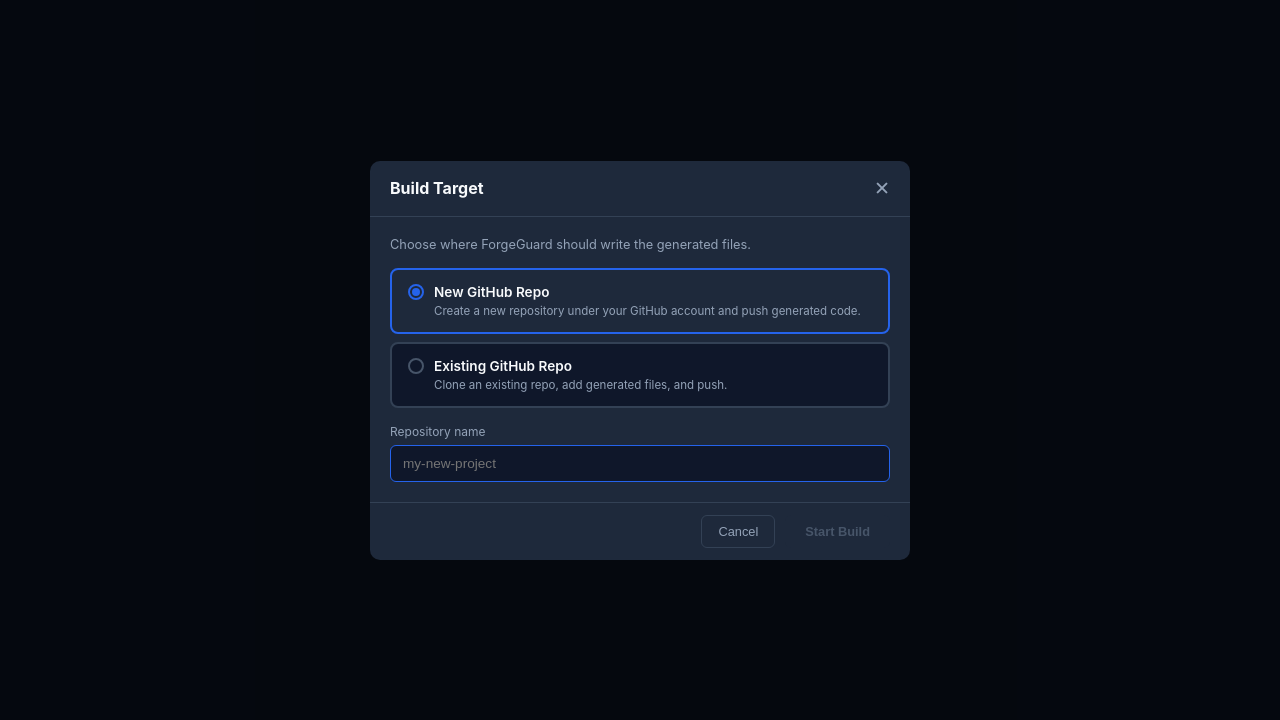
Test: BuildTargetModal › enables Start Build when input has value
In the field with test id "target-ref-input": (640, 463) [390, 444, 890, 482], type "my-repo"
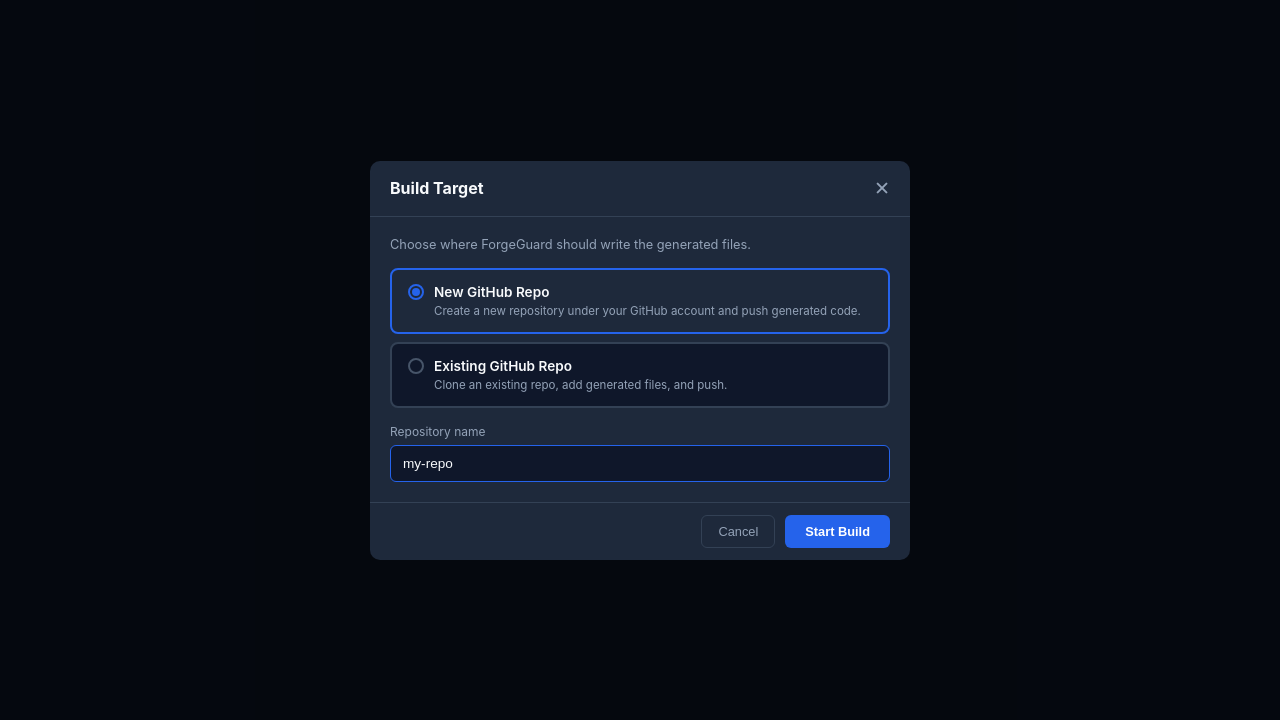
Result: the button with test id "target-confirm-btn" is enabled at [785, 514, 890, 548]
